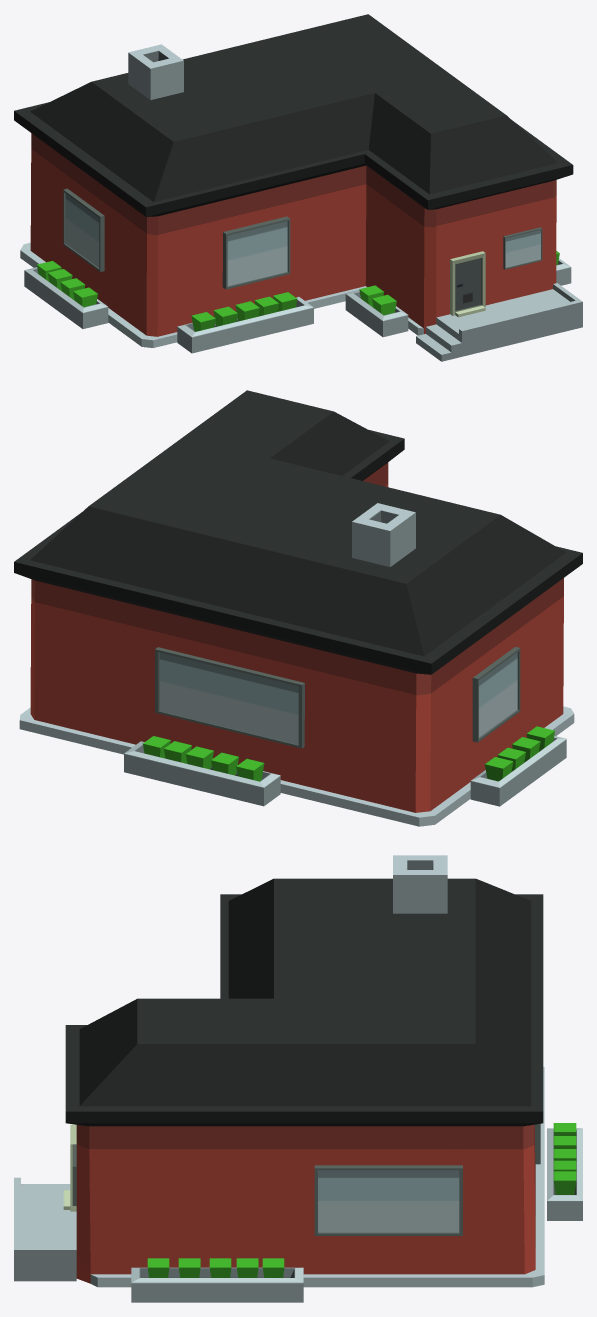
File: Flatty Roof L.fbx
3 renders of one model, top to bottom at view 1: azimuth 30°, elevation 25°; view 2: azimuth 150°, elevation 25°; view 3: azimuth 270°, elevation 25°, orthographic. The views are drawn at different scales.
Parts seen in each view (by area): view 1: Flatty Roof L; view 2: Flatty Roof L; view 3: Flatty Roof L.
Boxes of the visible parts, left/top/right/bottom form: Flatty Roof L: left=14, top=14, right=582, bottom=361; Flatty Roof L: left=14, top=390, right=582, bottom=826; Flatty Roof L: left=14, top=855, right=582, bottom=1302.
Size of the model in its own units: 6.11 by 3.01 by 5.96.
